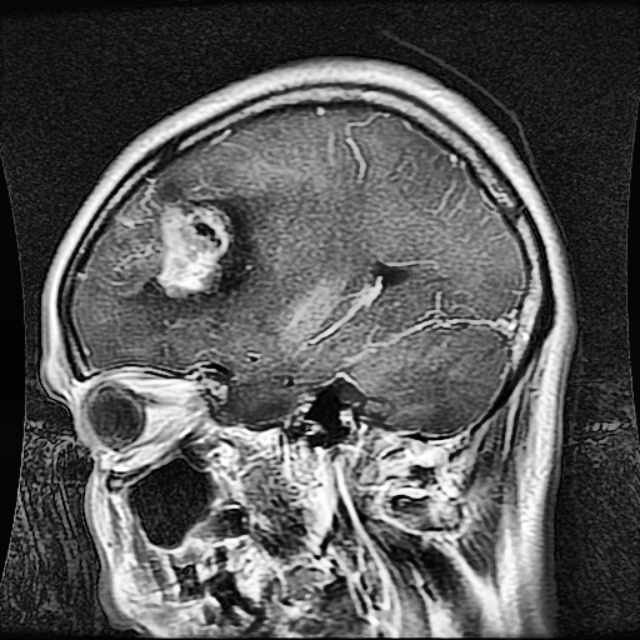Meningioma: (155, 197, 235, 292)
